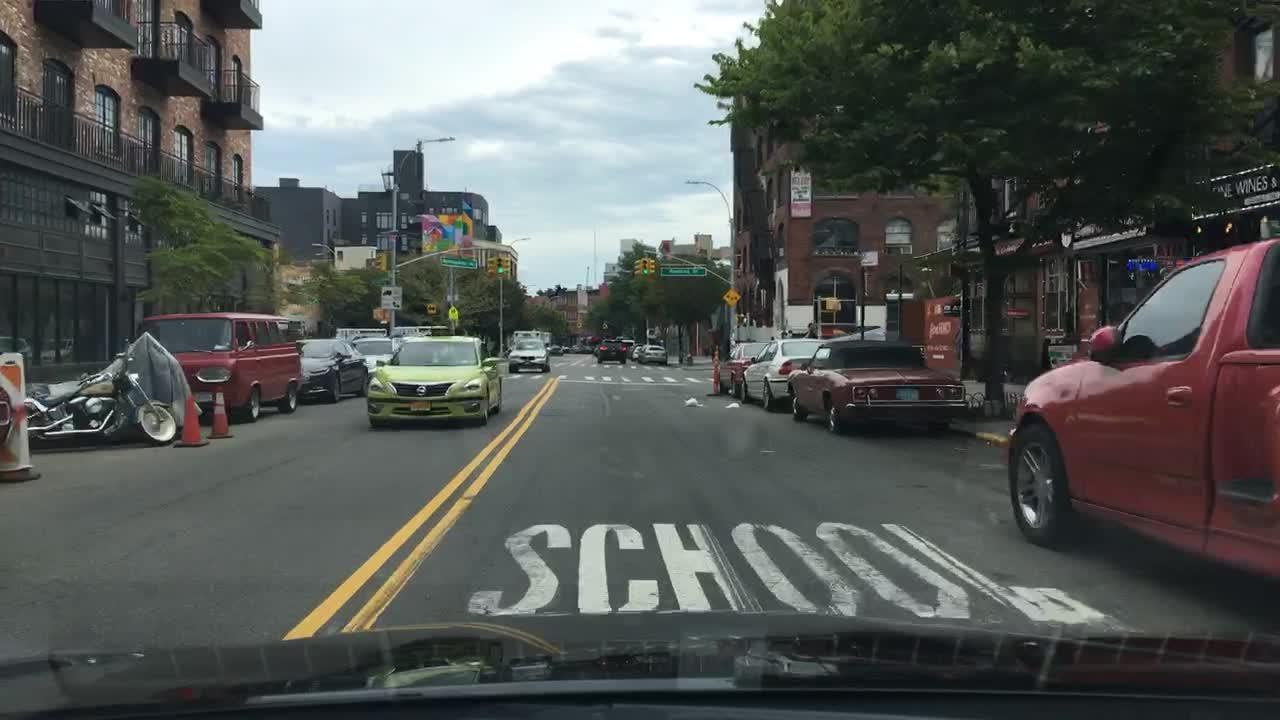Nissan: (416, 385, 428, 398)
